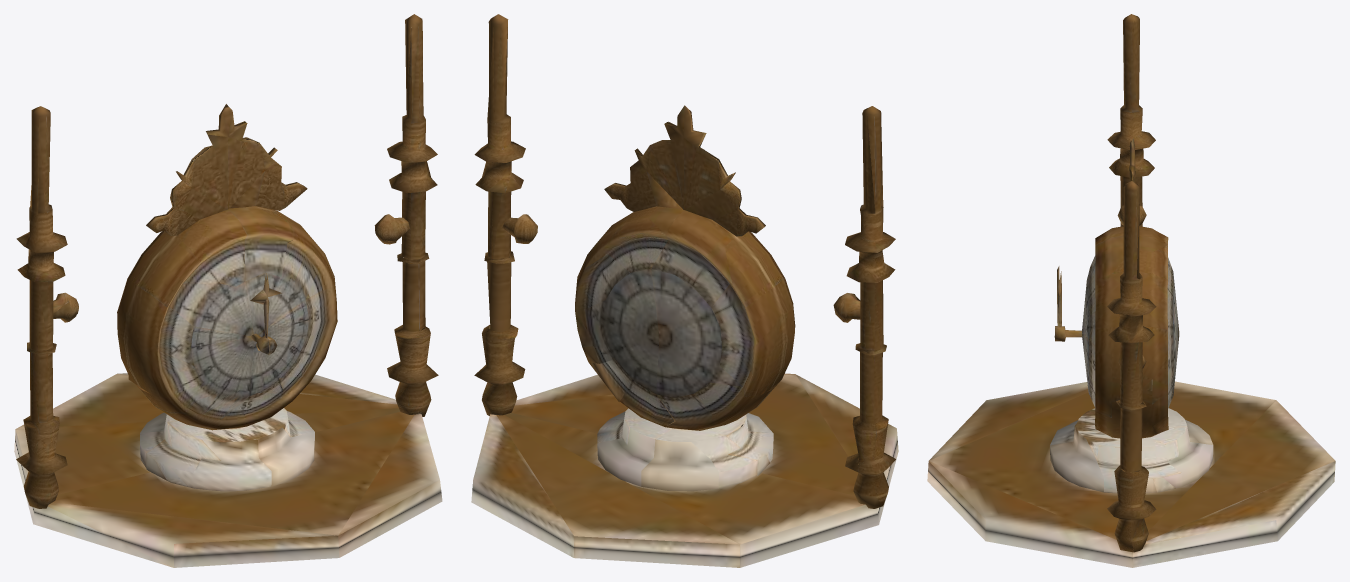
Rendered from keepsake-lift-dial.glb.
3 renders of one model, left to right at view 1: azimuth 30°, elevation 25°; view 2: azimuth 150°, elevation 25°; view 3: azimuth 270°, elevation 25°, orthographic. The views are drawn at different scales.
Visible parts, largest first — view 1: keepsake-lift-dial; view 2: keepsake-lift-dial; view 3: keepsake-lift-dial.
Boxes of the visible parts, bbox=[...] form: keepsake-lift-dial: bbox=[14, 14, 442, 567]; keepsake-lift-dial: bbox=[471, 14, 898, 567]; keepsake-lift-dial: bbox=[927, 14, 1335, 567].
Size of the model in its own units: 0.8156 by 0.8 by 0.7701.
1 material, 1 textured.
